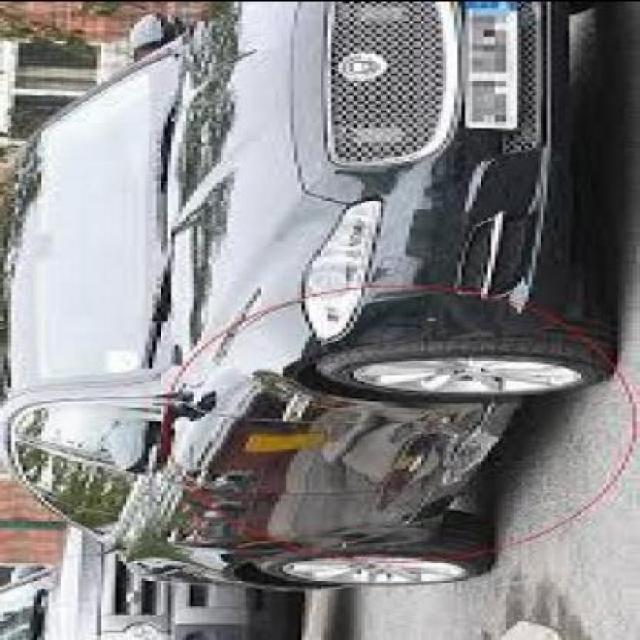damage: (292, 403, 518, 499)
